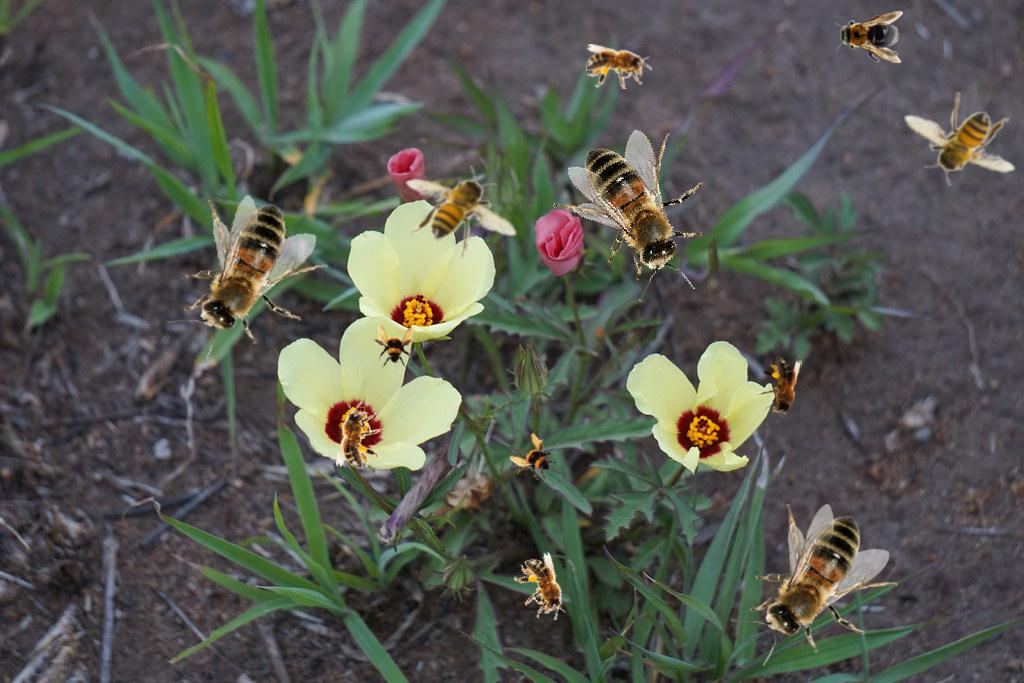Bee: (532, 103, 745, 319), (152, 186, 339, 368), (731, 504, 898, 666), (904, 92, 1015, 186), (406, 165, 517, 259), (507, 549, 579, 630), (504, 429, 566, 491), (835, 11, 903, 63), (757, 357, 802, 423), (586, 44, 652, 89), (336, 402, 381, 468), (371, 324, 415, 368)
